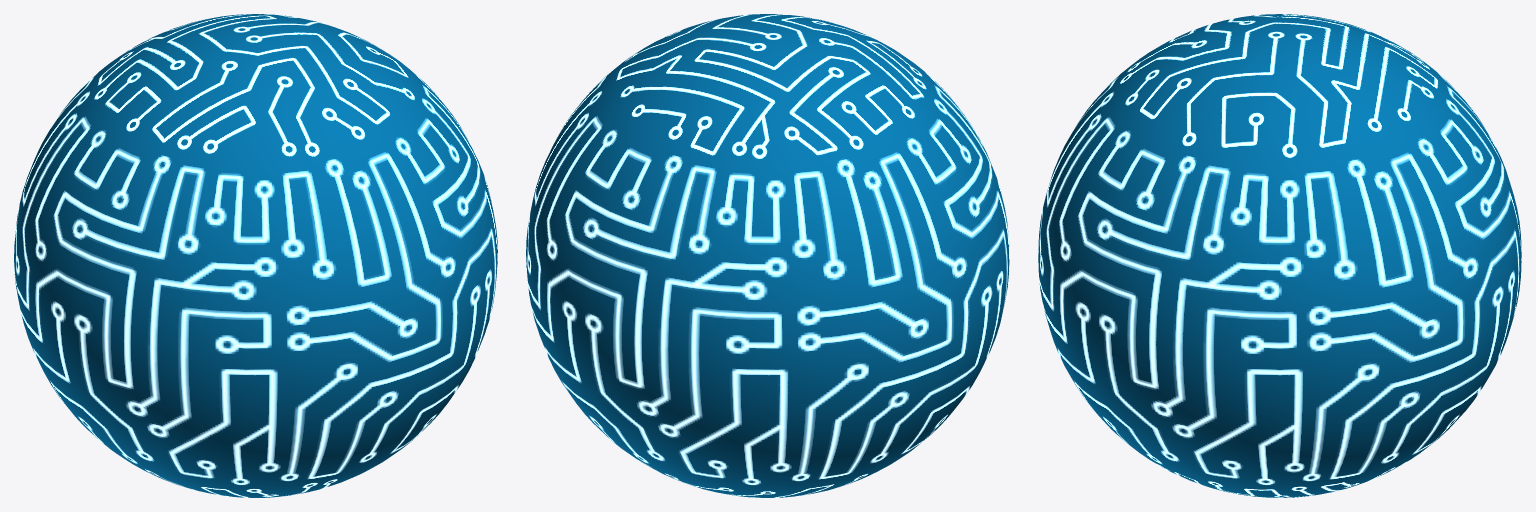
The model's file is BallMini.gltf.
3 views of the same model, side by side, from view 1: azimuth 30°, elevation 25°; view 2: azimuth 150°, elevation 25°; view 3: azimuth 270°, elevation 25° (orthographic).
Parts seen in each view (by area): view 1: BallMini; view 2: BallMini; view 3: BallMini.
Boxes of the visible parts, x1,y1,x2,y2 form: BallMini: (14,14,497,497); BallMini: (526,14,1009,497); BallMini: (1038,14,1521,497).
Bounding box in the file's own units: 0.3048 × 0.3048 × 0.3042.
2 materials, 2 textured.
